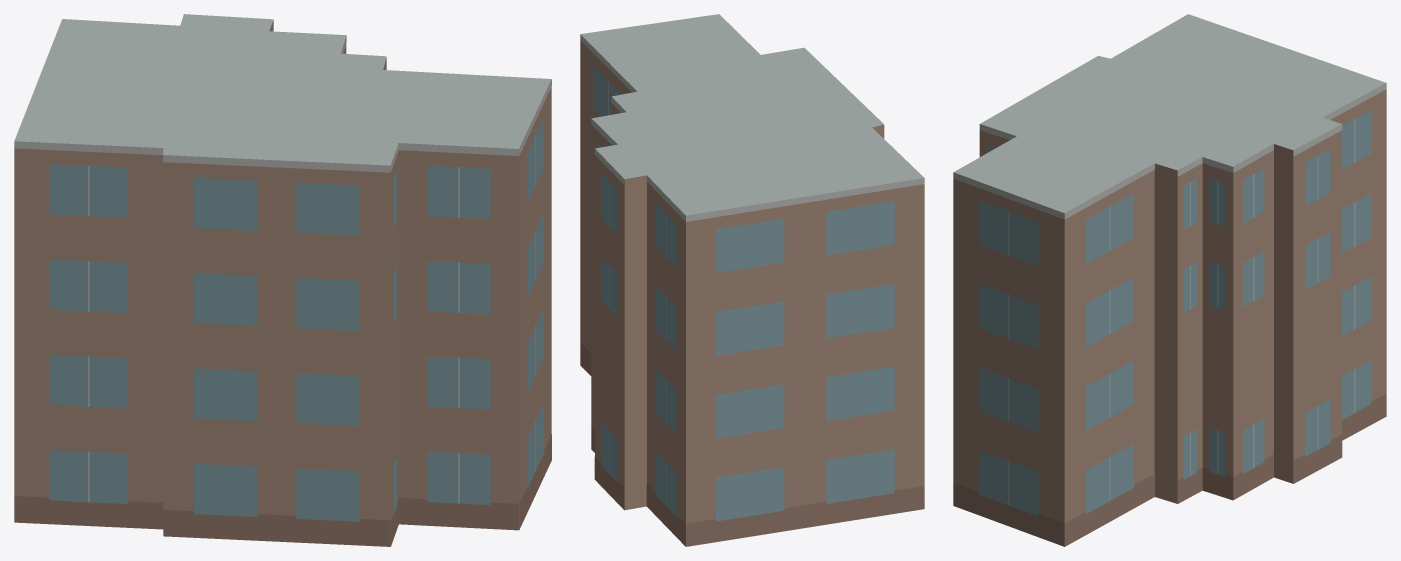
The model's file is survey-upis-32512721.glb.
The picture shows the model from 3 angles, left to right: view 1: azimuth 30°, elevation 25°; view 2: azimuth 150°, elevation 25°; view 3: azimuth 270°, elevation 25°; orthographic projection. The views are drawn at different scales.
Visible parts, largest first — view 1: survey-upis-32512721.tmp; view 2: survey-upis-32512721.tmp; view 3: survey-upis-32512721.tmp.
Boxes of the visible parts, <box> form: survey-upis-32512721.tmp: <box>14,14,551,546</box>; survey-upis-32512721.tmp: <box>580,14,924,546</box>; survey-upis-32512721.tmp: <box>953,14,1386,546</box>.
Size of the model in its own units: 16.74 by 13.05 by 15.37.
